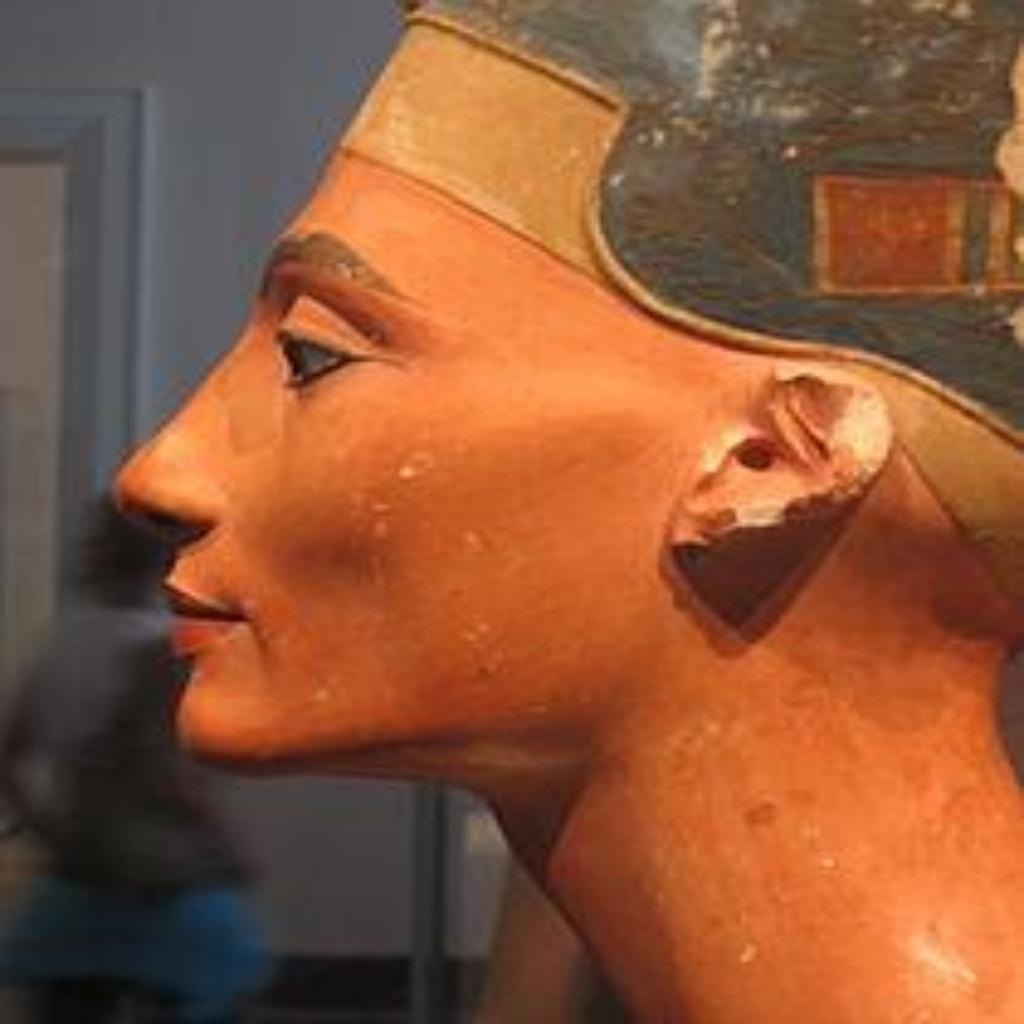Nefertiti: (107, 0, 1019, 1020)
